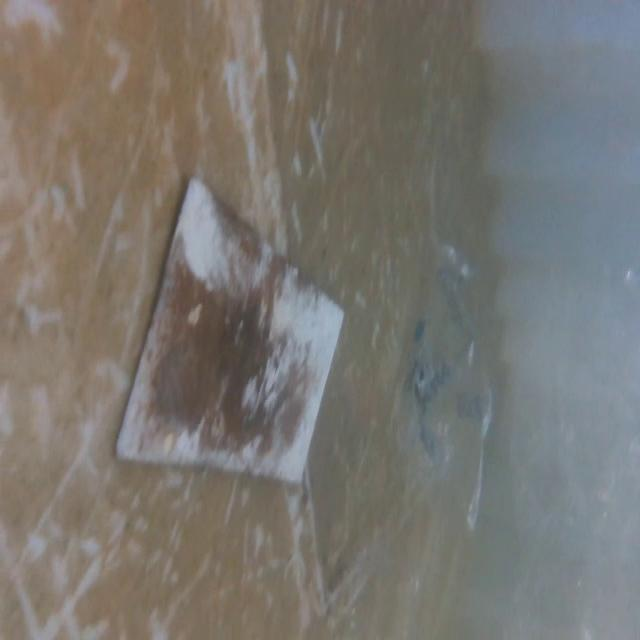plastic bags: (401, 247, 498, 532)
